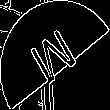M_SE: (26, 21, 84, 89)
